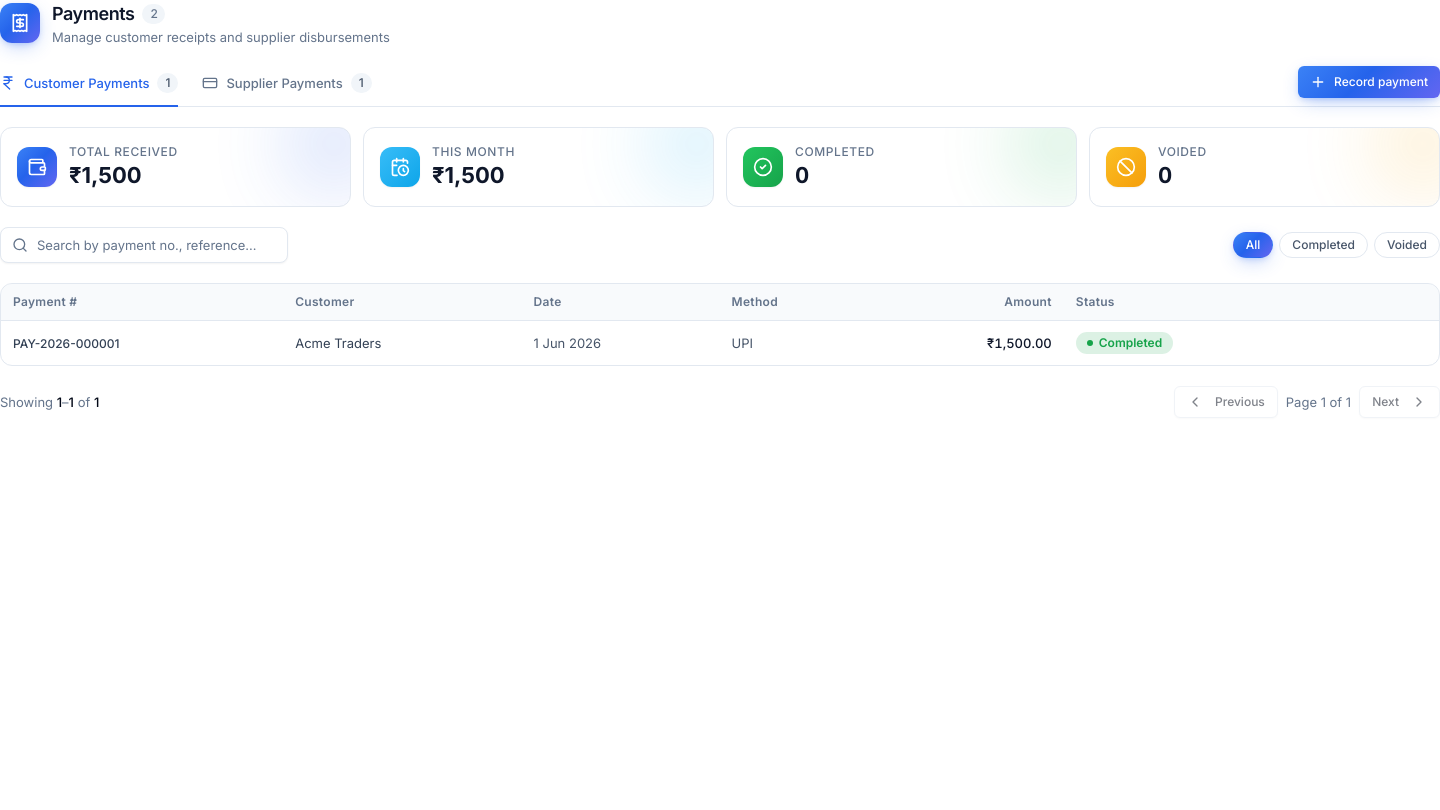
Test: PaymentsView › opens the make supplier payment dialog
What coordinates should you click on to do the following:
click the tab "Supplier Payments 1"
I would click on:
 (287, 90)
Its box is x1=202 y1=73 x2=372 y2=107.
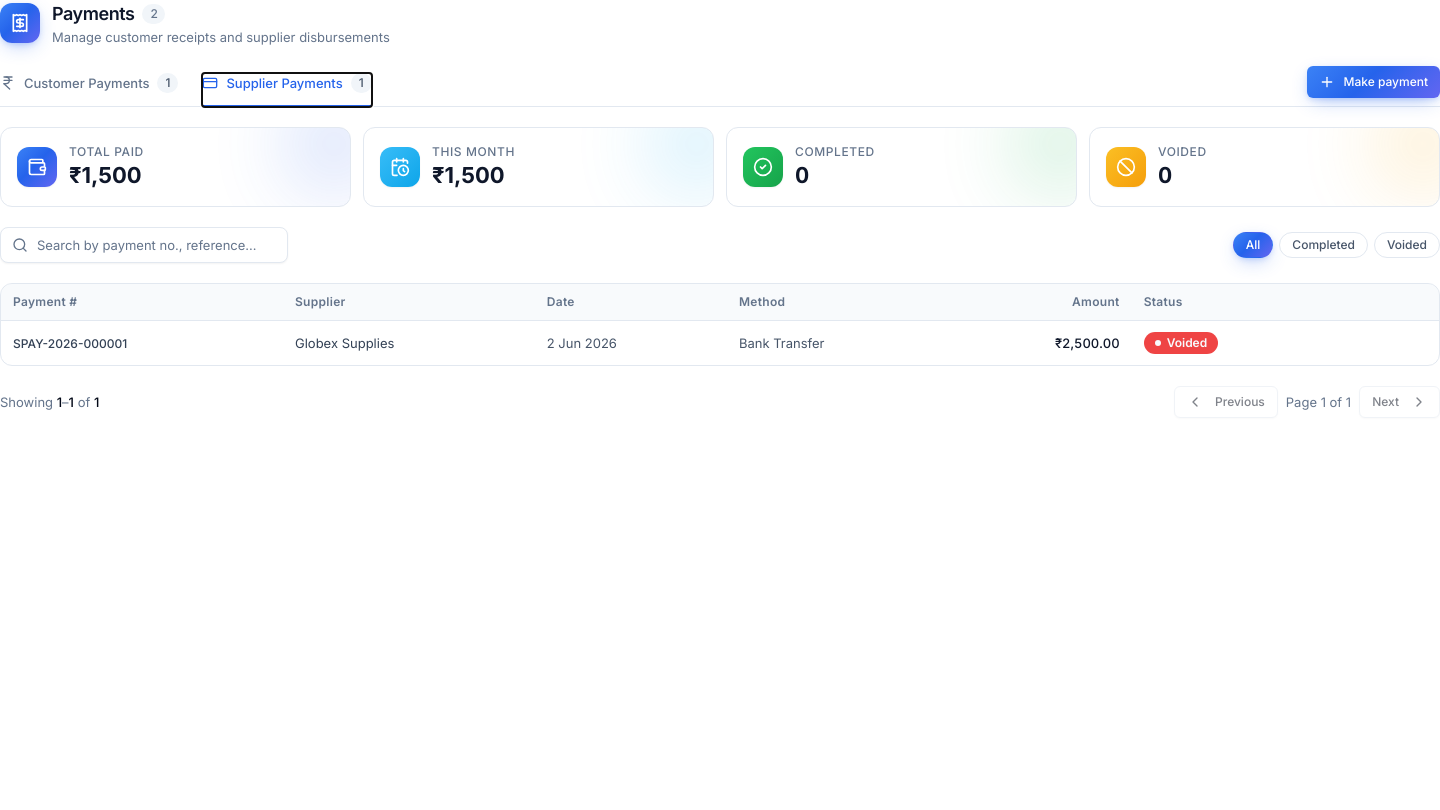
What coordinates should you click on to do the following:
click the button "Make payment"
I would click on:
 (1374, 82)
Its box is x1=1308 y1=66 x2=1439 y2=98.
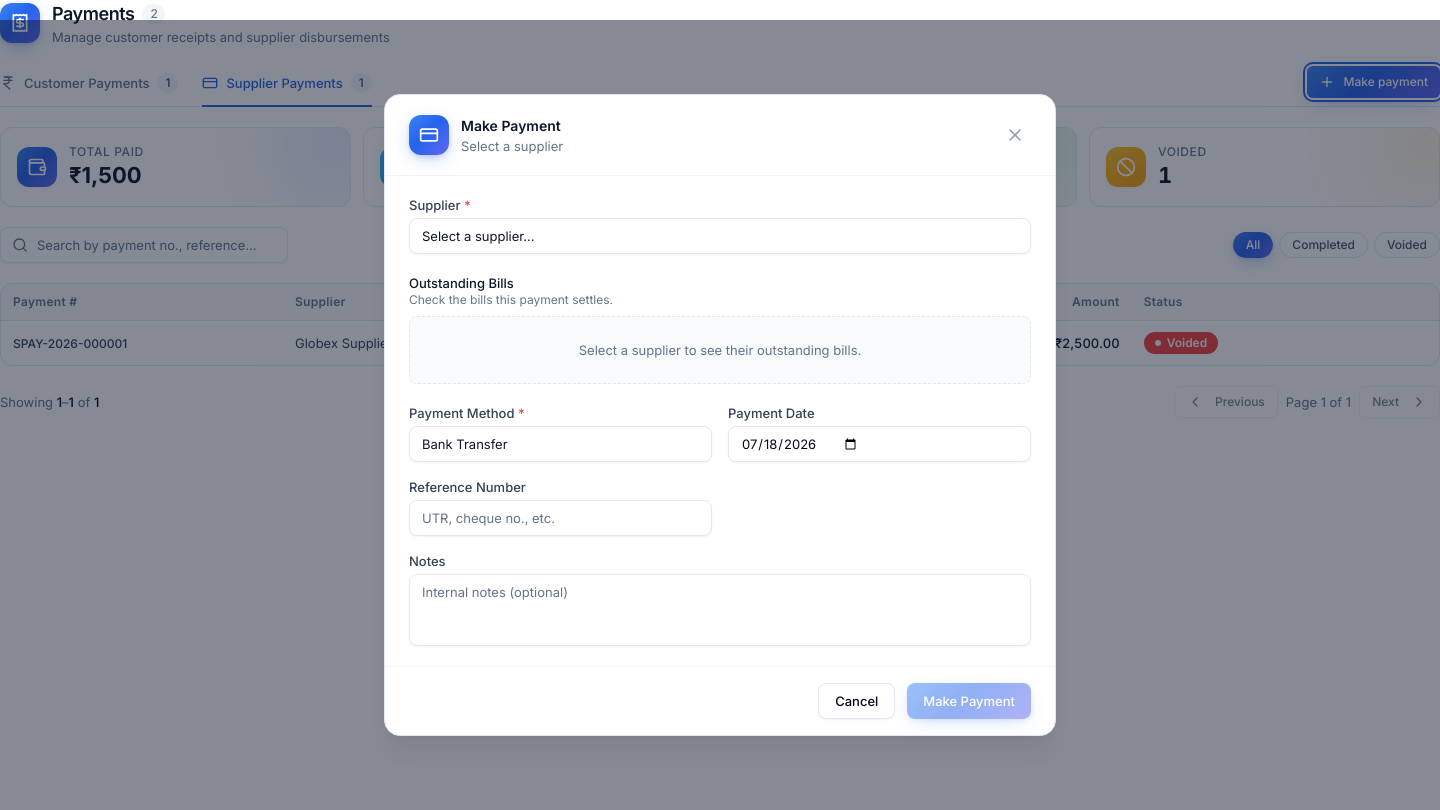
Now the dialog named "record supplier payment" is shown
